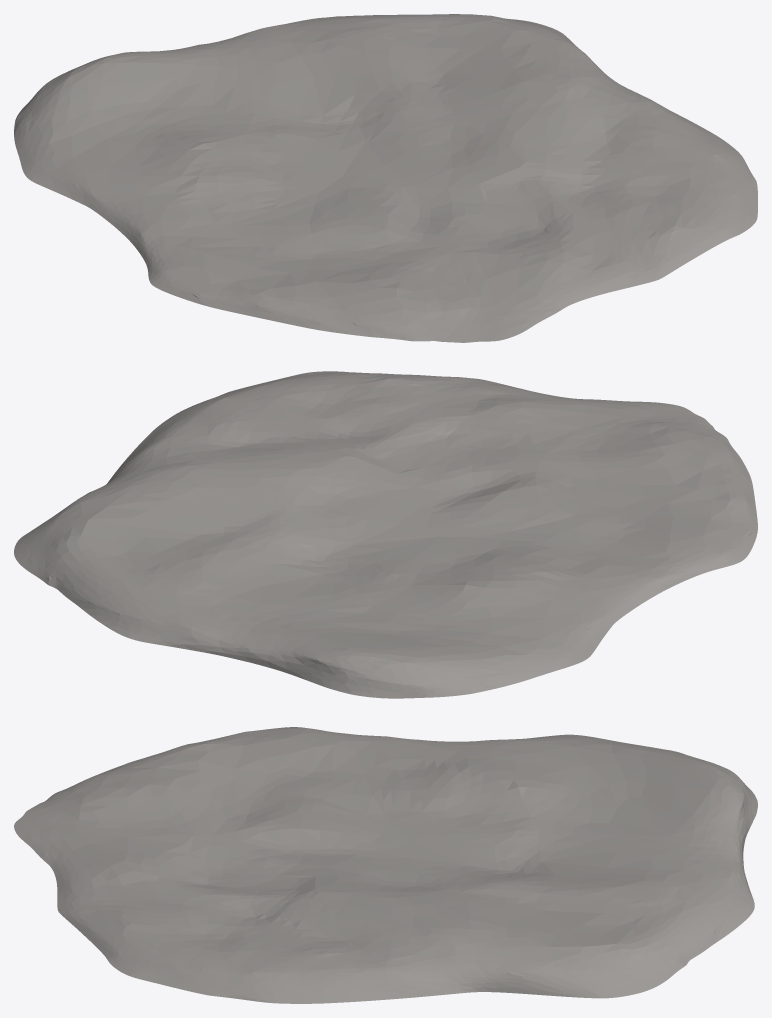
The model's file is Cavern_Floor_Plane_Lrg.fbx.
3 renders of one model, top to bottom at view 1: azimuth 30°, elevation 25°; view 2: azimuth 150°, elevation 25°; view 3: azimuth 270°, elevation 25°, orthographic.
Visible parts, largest first — view 1: Cavern_FloorPlane_Lrg; view 2: Cavern_FloorPlane_Lrg; view 3: Cavern_FloorPlane_Lrg.
Part boxes in pixels (left/top/right/bottom): Cavern_FloorPlane_Lrg: left=14, top=14, right=757, bottom=342; Cavern_FloorPlane_Lrg: left=14, top=371, right=757, bottom=698; Cavern_FloorPlane_Lrg: left=14, top=727, right=757, bottom=1003.
Size of the model in its own units: 4959 by 231 by 5632.
1 material, 1 textured.
